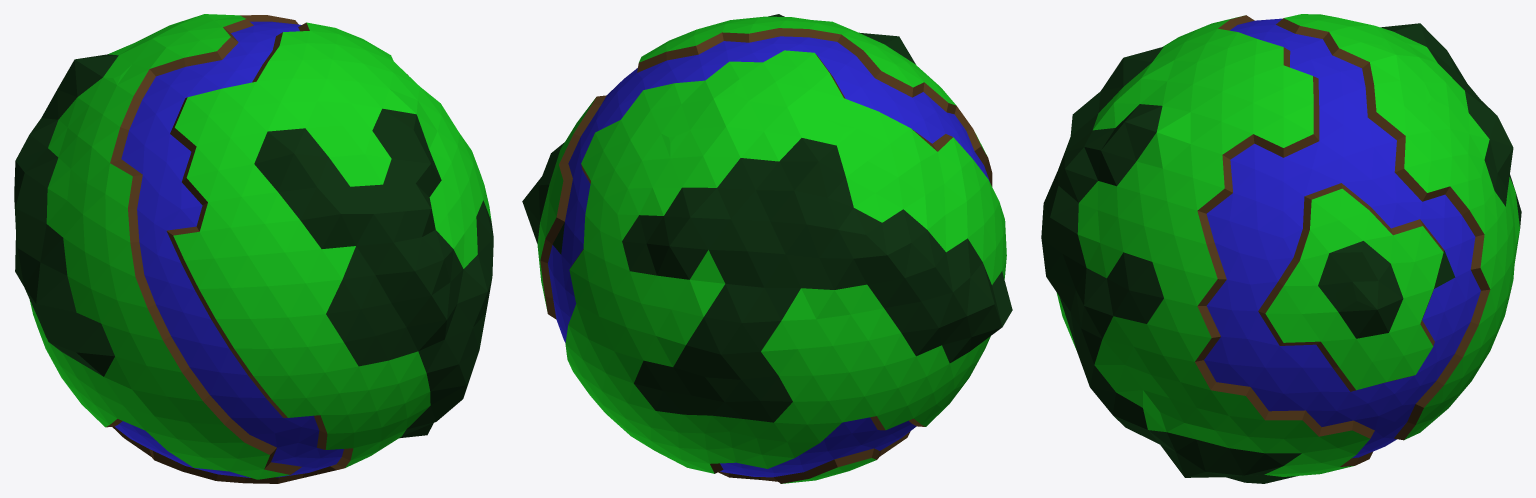
Rendered from mountains-world.obj.
3 renders of one model, left to right at view 1: azimuth 30°, elevation 25°; view 2: azimuth 150°, elevation 25°; view 3: azimuth 270°, elevation 25°, orthographic.
Visible parts, largest first — view 1: World_Icosphere.003; view 2: World_Icosphere.003; view 3: World_Icosphere.003.
Boxes of the visible parts, bbox=[...] form: World_Icosphere.003: bbox=[14, 14, 493, 483]; World_Icosphere.003: bbox=[522, 14, 1012, 483]; World_Icosphere.003: bbox=[1041, 14, 1521, 483].
Size of the model in its own units: 10.48 by 9.96 by 10.33.
